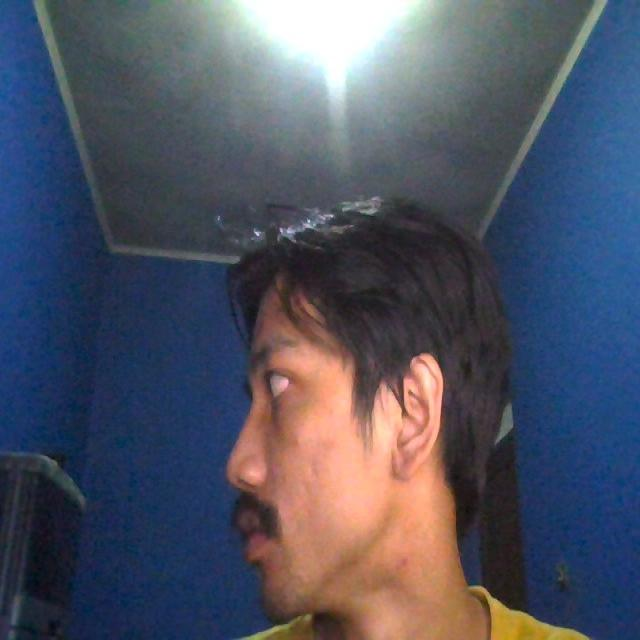Melihat kekanan: (175, 165, 504, 605)
